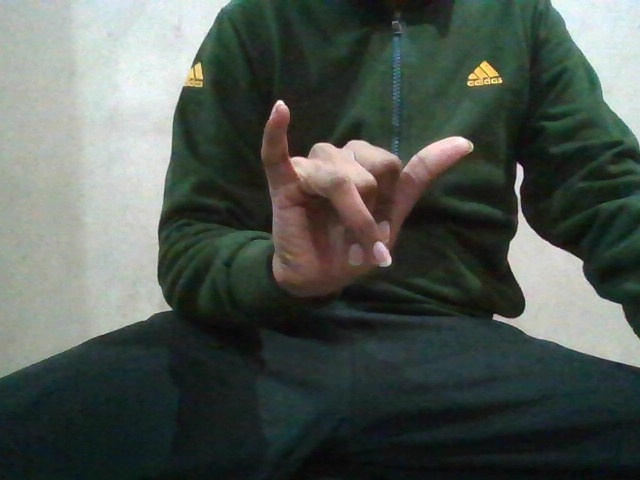Y: (264, 95, 464, 296)
